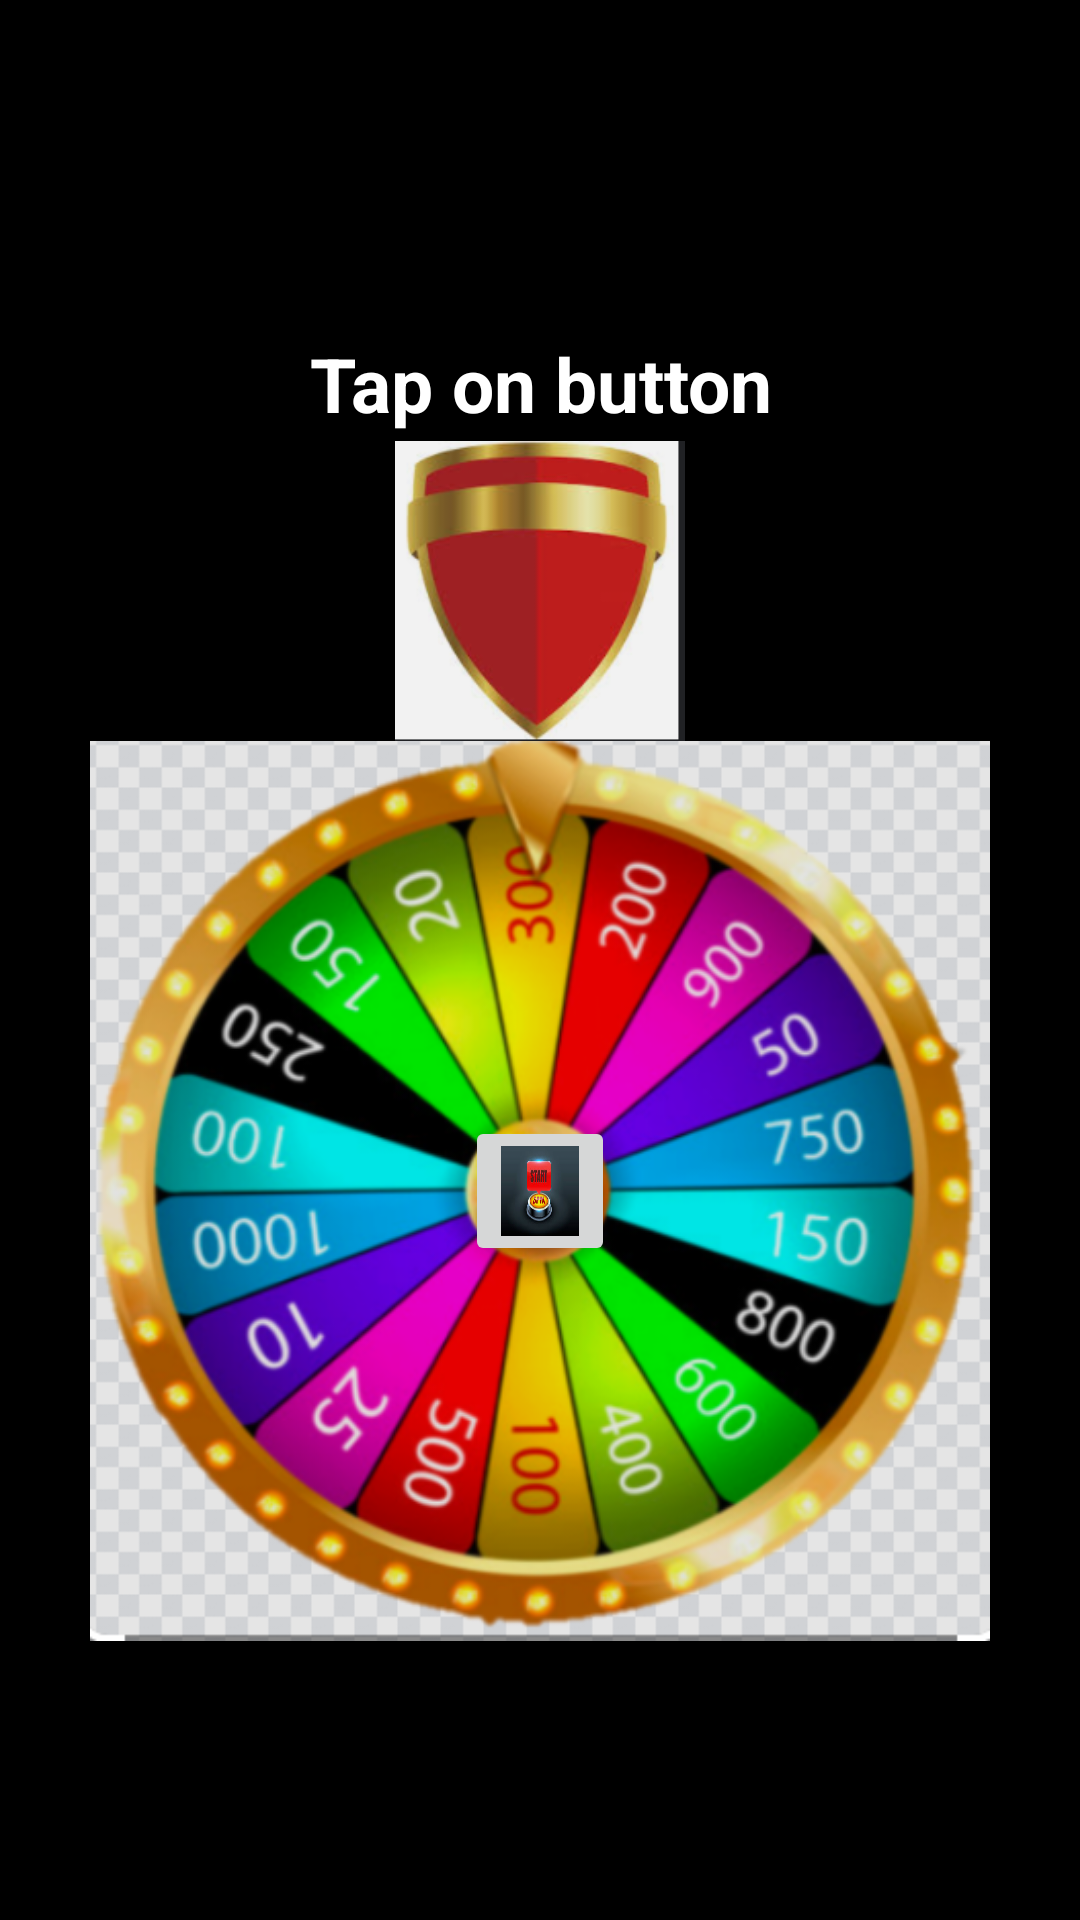

Screen size 1080 x 1920. Icon name, then its box in pixels as (x1, y1, x2, y2):
shield: (395, 441, 685, 741)
